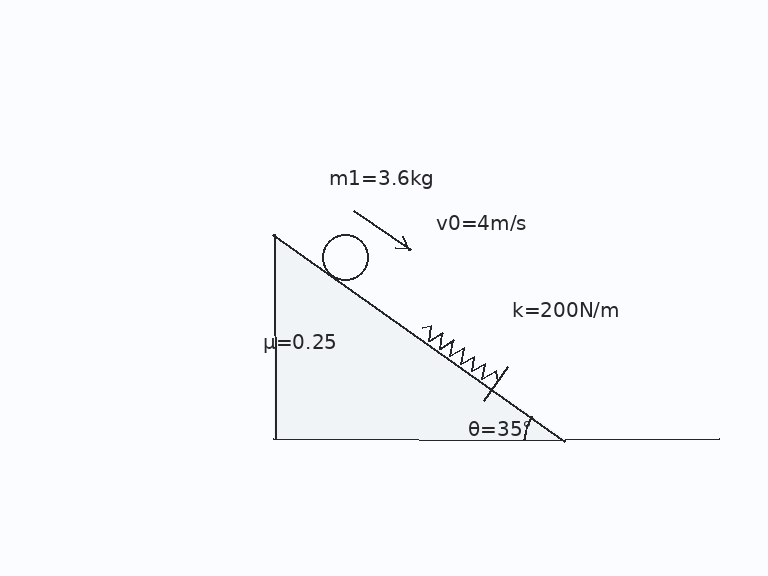ball: (320, 232, 370, 282)
ramp: (272, 233, 567, 441)
spring: (420, 324, 499, 383)
